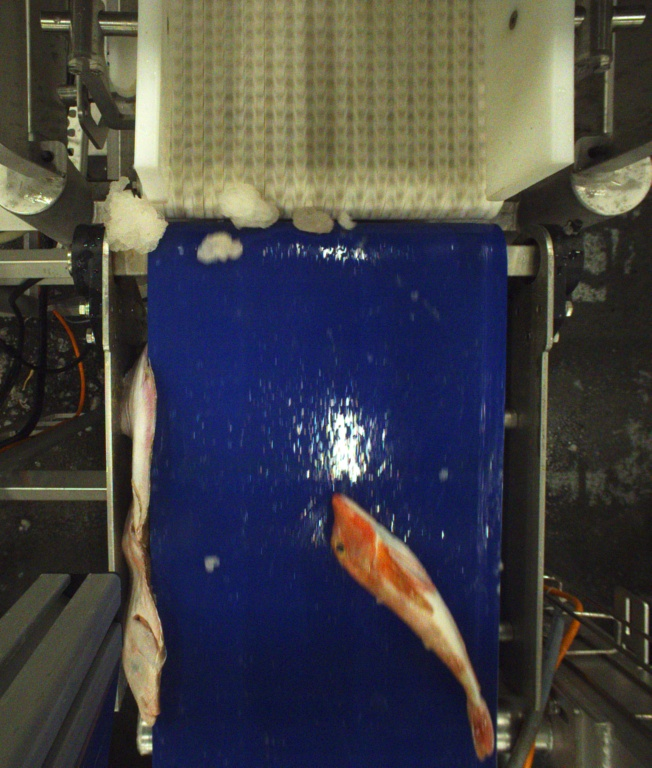GUU: (331, 493, 496, 760)
